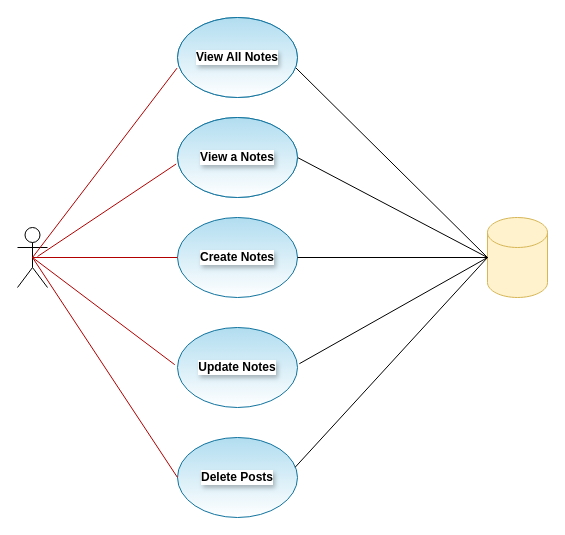
Image size: 565x535. Some labels were removed from this diagram. The shapes that lost their labels are listed below. From the top down, each one's centre as x and y in pixels, then its label:
point (32, 257): User
point (517, 257): Database
